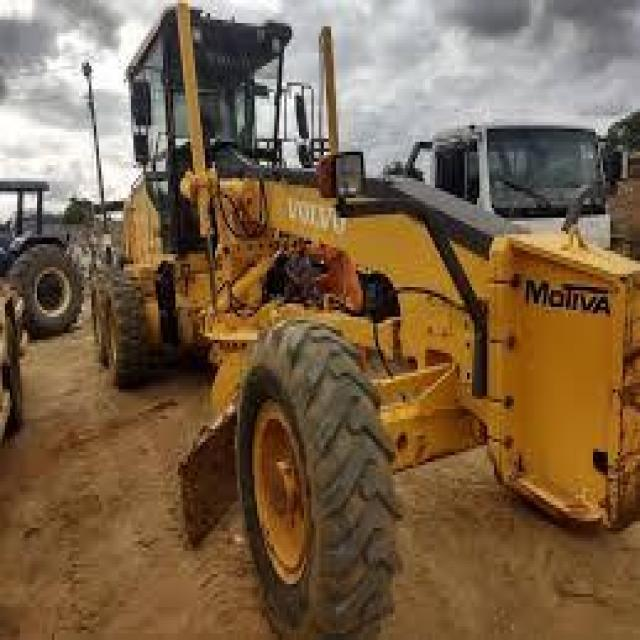Grader: (62, 10, 638, 633)
